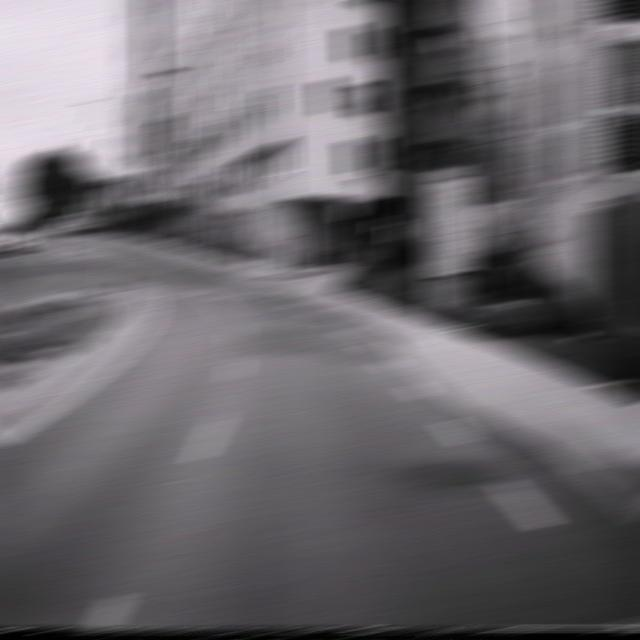stop_sign: (96, 184, 124, 211), (337, 192, 361, 218)
